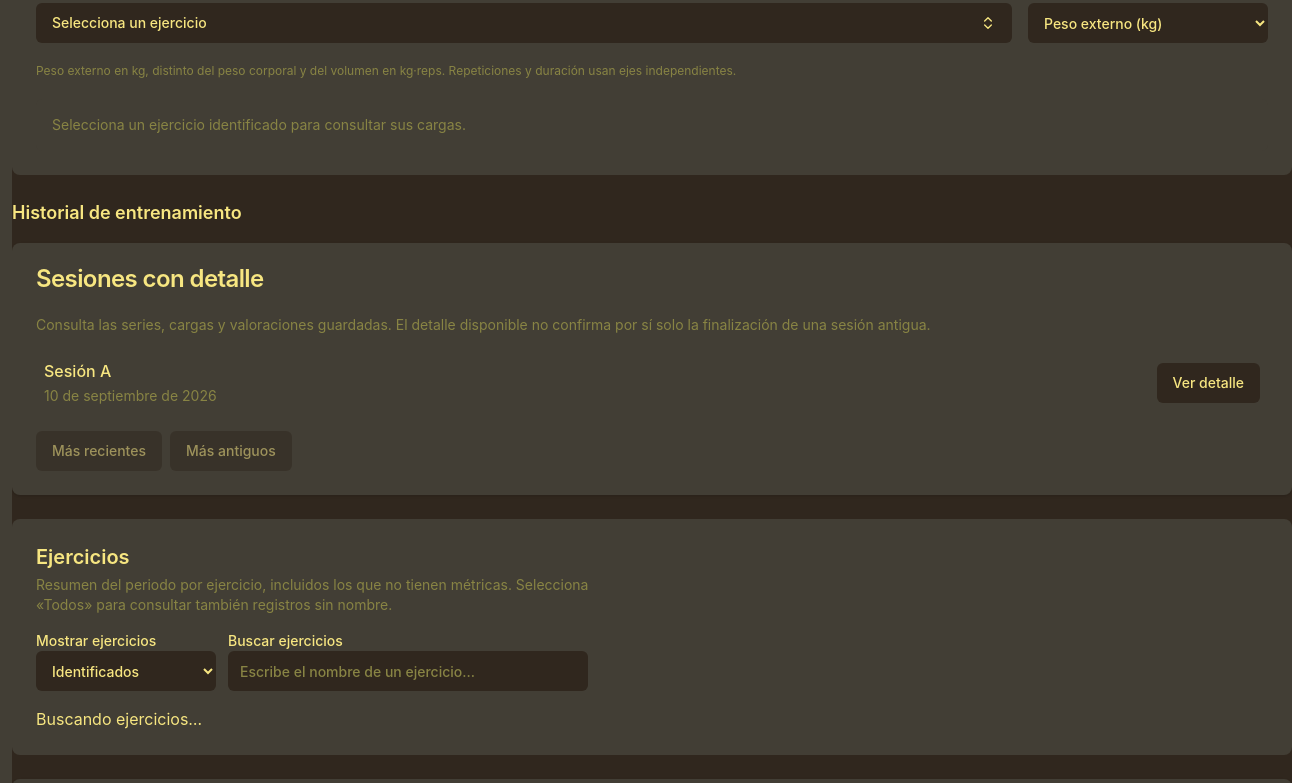
Test: TrainingProgressPanel › distinguishes a forbidden session detail from a missing or empty detail
The width and height of the screenshot is (1292, 783).
(page scrolled)
Click the button with aria-label "Ver detalle de Sesión A".
click(1208, 383)  # box [1156,363,1260,403]
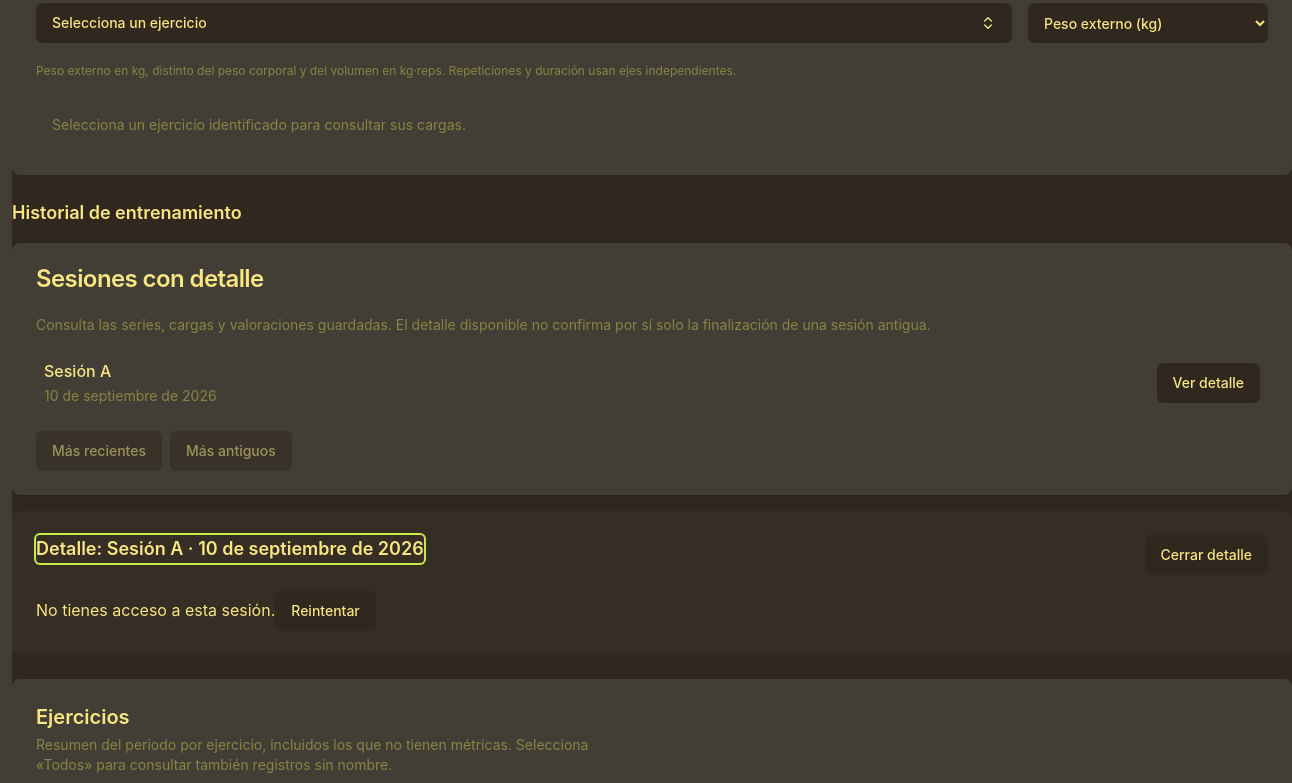
Result: the message shows "No tienes acceso a esta sesión." at [36,600,275,620]
